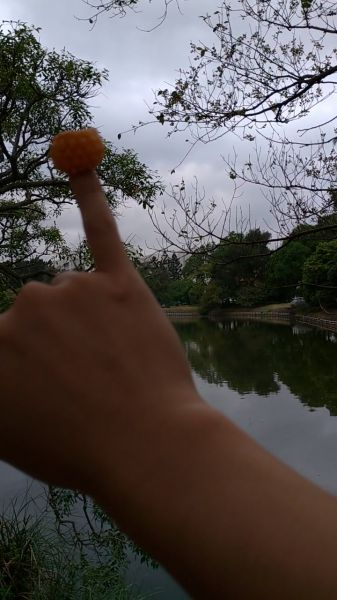eggs: (51, 129, 105, 173)
